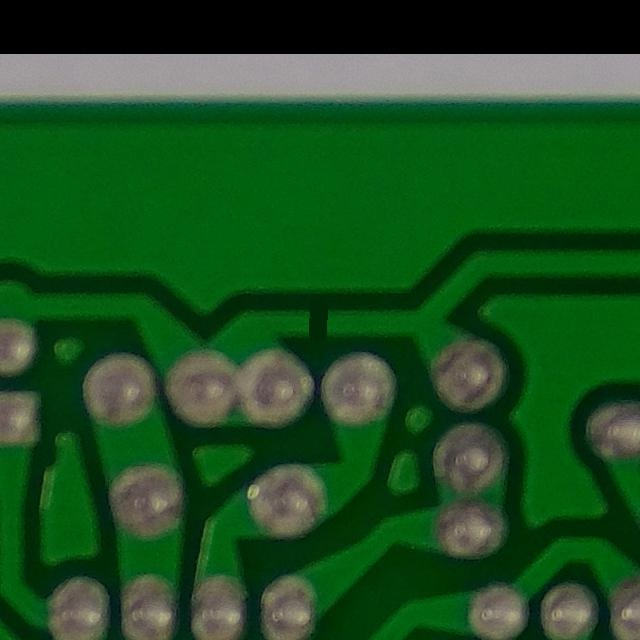open_circuit: (297, 298, 343, 342)
